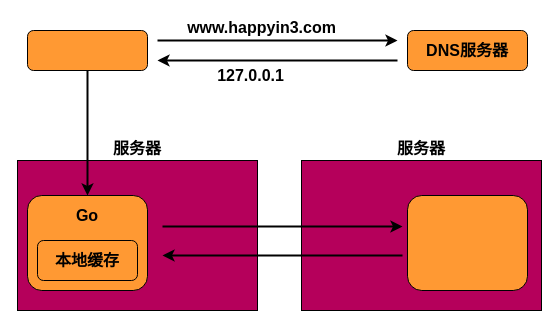
Some shapes in this 559 by 328 pixel diagram are drawn without their labels. The shapes that lost their labels are listed below. From the top down, each one's box as (x1, y1, x2, y2) in pixels, then its label:
(26, 30, 148, 70): 浏览器
(406, 194, 528, 290): 数据库
